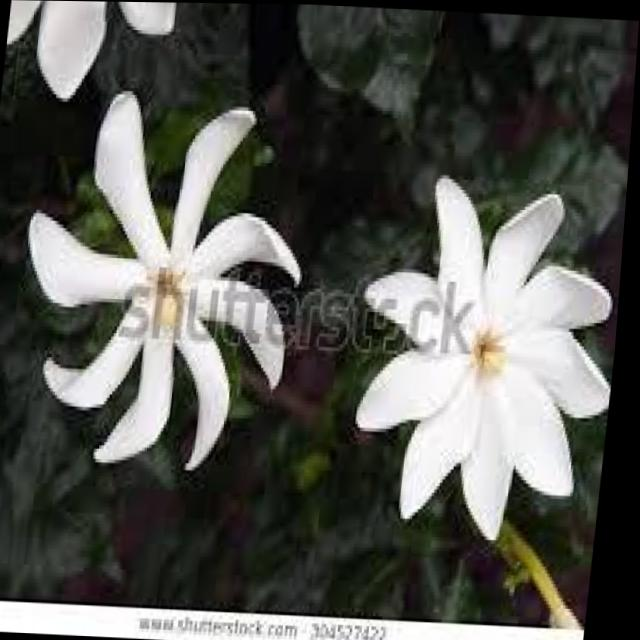Flower: (8, 88, 320, 478), (340, 166, 631, 545)
